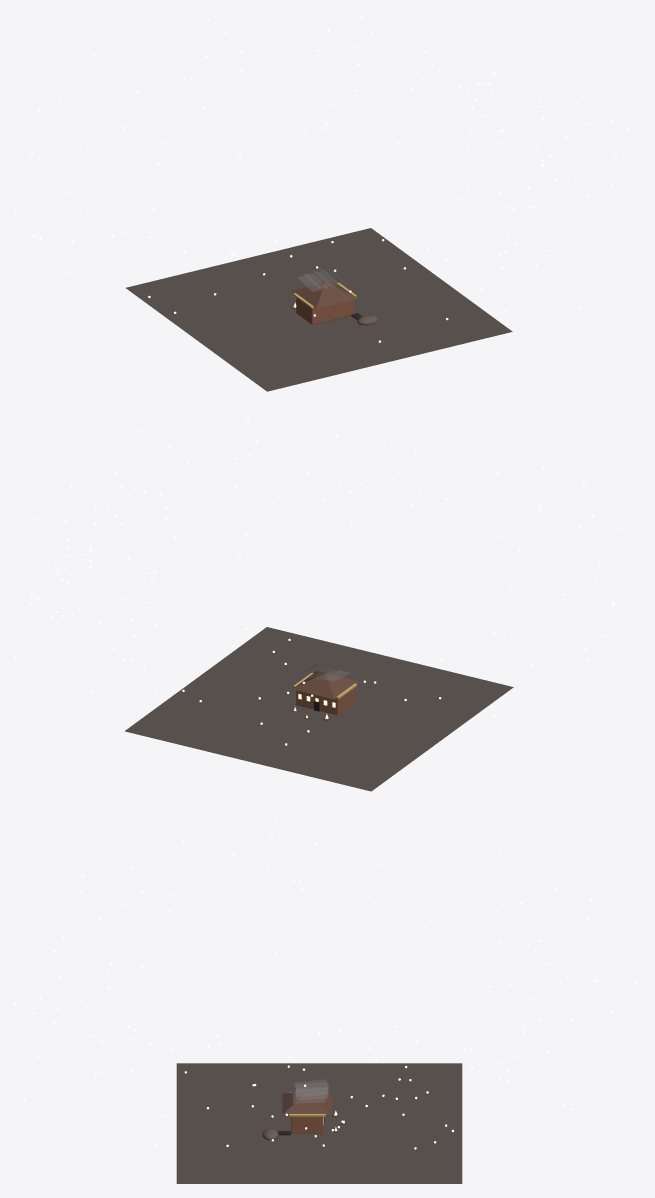
The model's file is adi-08-lakshagriha.glb.
3 views of the same model, one above another, from view 1: azimuth 30°, elevation 25°; view 2: azimuth 150°, elevation 25°; view 3: azimuth 270°, elevation 25° (orthographic).
Visible parts, largest first — view 1: GEO-ground, GEO-palace-roof, GEO-palace; view 2: GEO-ground, GEO-palace-roof, GEO-palace; view 3: GEO-ground, GEO-palace-roof, GEO-palace.
Part boxes in pixels (<box>): GEO-ground: <box>126,228,512,391</box>; GEO-palace-roof: <box>292,281,357,308</box>; GEO-palace: <box>296,298,353,324</box>; GEO-ground: <box>125,627,513,791</box>; GEO-palace-roof: <box>292,671,358,699</box>; GEO-palace: <box>296,688,354,715</box>; GEO-ground: <box>176,1063,462,1183</box>; GEO-palace-roof: <box>282,1091,331,1114</box>; GEO-palace: <box>291,1116,323,1133</box>.
Bounding box in the file's own units: 315 × 102 × 307.
13 materials, 2 textured.
